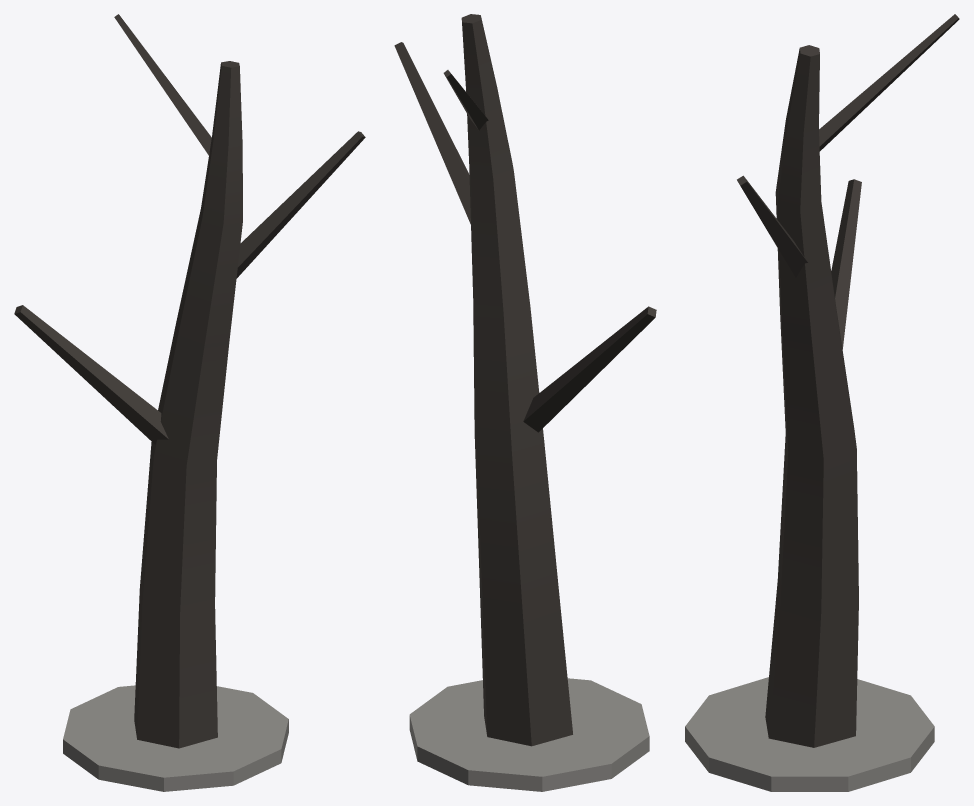
Rendered from Prop_BurntTree.fbx.
The picture shows the model from 3 angles, left to right: view 1: azimuth 30°, elevation 25°; view 2: azimuth 150°, elevation 25°; view 3: azimuth 270°, elevation 25°; orthographic projection. The views are drawn at different scales.
Visible parts, largest first — view 1: Trunk, Limbs; view 2: Trunk, Limbs; view 3: Trunk, Limbs.
Boxes of the visible parts, box(x1,y1,x2,y2) form: Trunk: box(134, 61, 242, 748); Limbs: box(14, 14, 365, 791); Trunk: box(461, 14, 572, 746); Limbs: box(394, 42, 656, 791); Trunk: box(765, 45, 858, 747); Limbs: box(685, 14, 959, 791).
Size of the model in its own units: 6.55 by 14.3 by 4.84.
